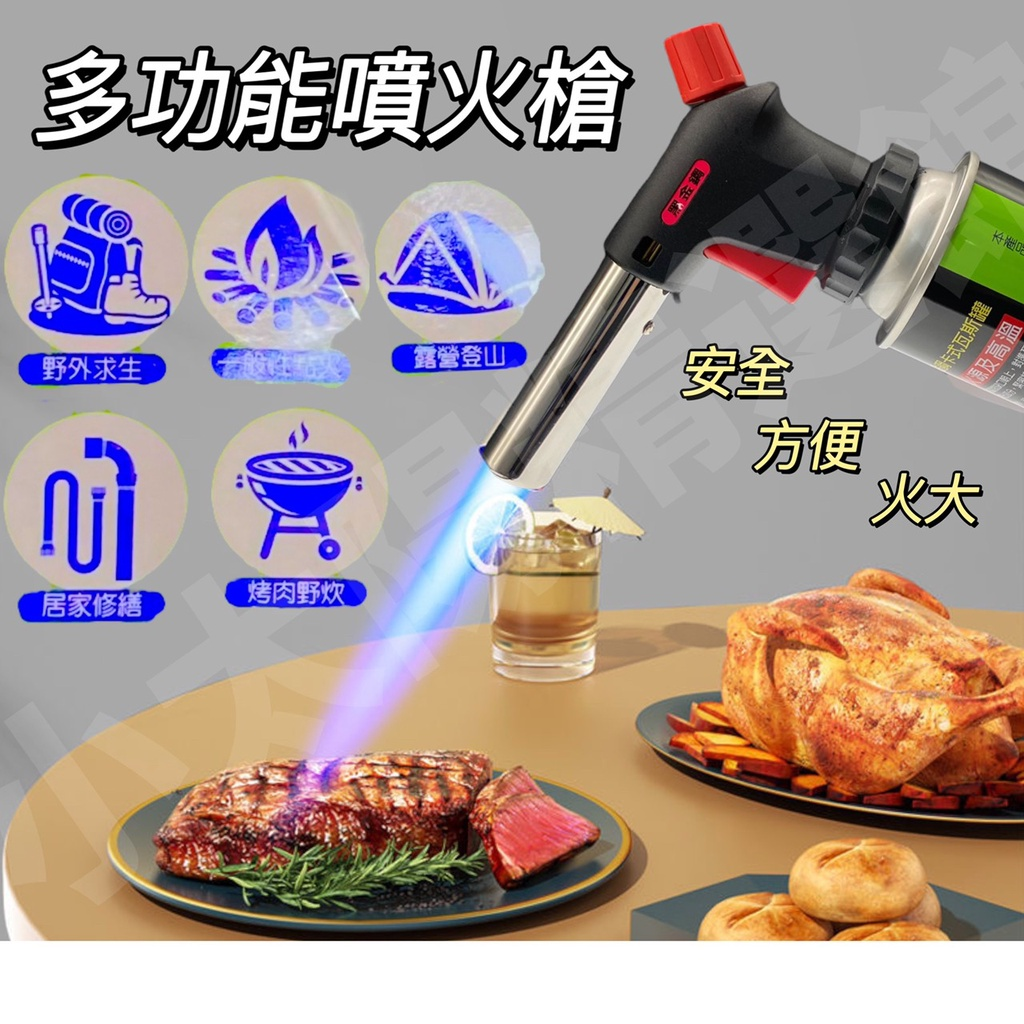gastorch: (476, 13, 1024, 496)
